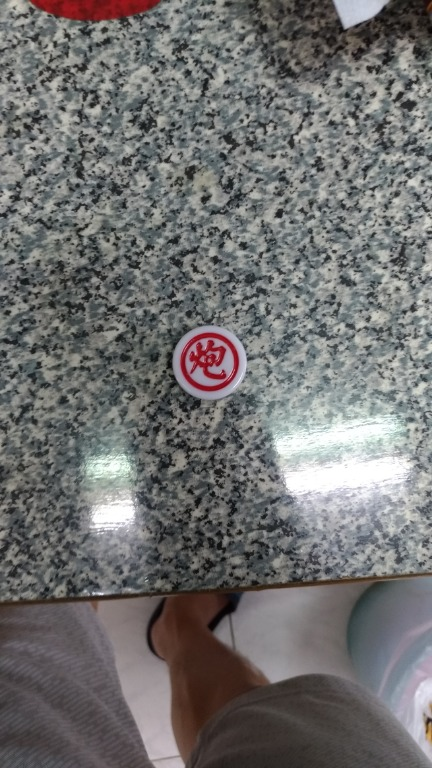r-cannon: (154, 315, 271, 415)
